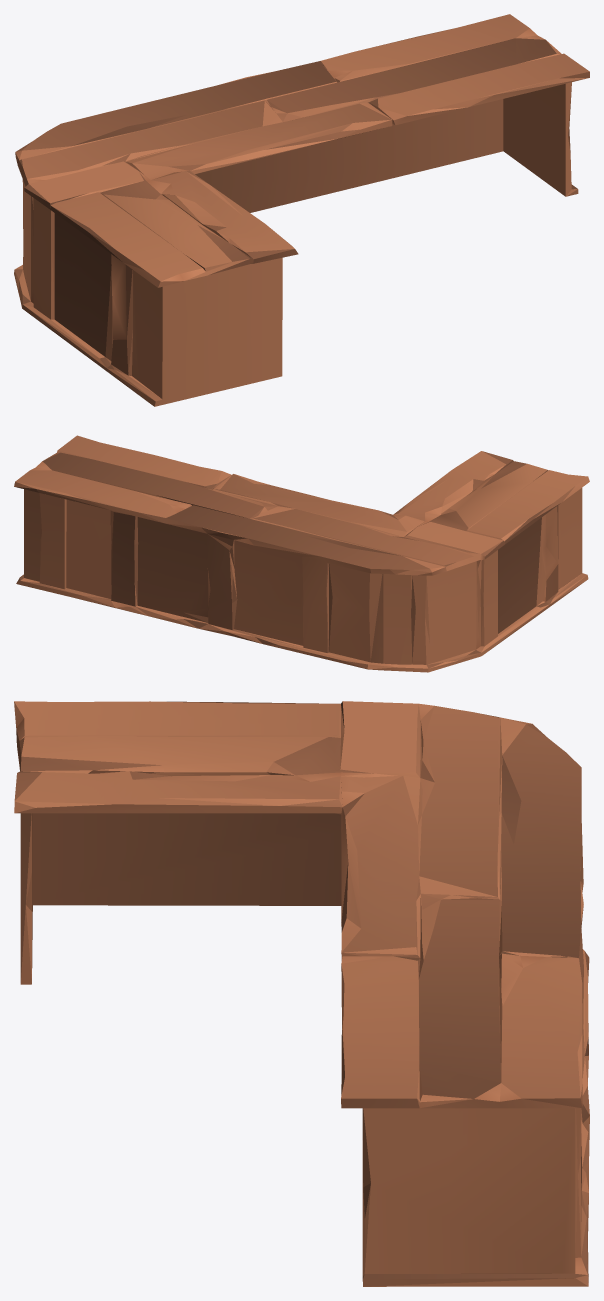
The model's file is BarCounter.fbx.
3 renders of one model, top to bottom at view 1: azimuth 30°, elevation 25°; view 2: azimuth 150°, elevation 25°; view 3: azimuth 270°, elevation 25°, orthographic. The views are drawn at different scales.
Parts seen in each view (by area): view 1: barCounterShavvy.001; view 2: barCounterShavvy.001; view 3: barCounterShavvy.001.
Part boxes in pixels (x1,y1,x2,y2): barCounterShavvy.001: [14, 14, 589, 406]; barCounterShavvy.001: [14, 435, 589, 672]; barCounterShavvy.001: [14, 701, 589, 1286].
Size of the model in its own units: 586 by 131 by 357.
